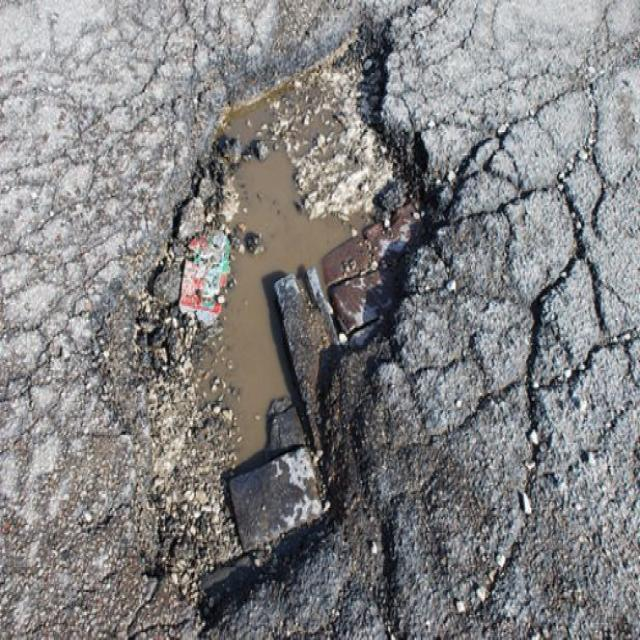pothole: (100, 18, 448, 610)
